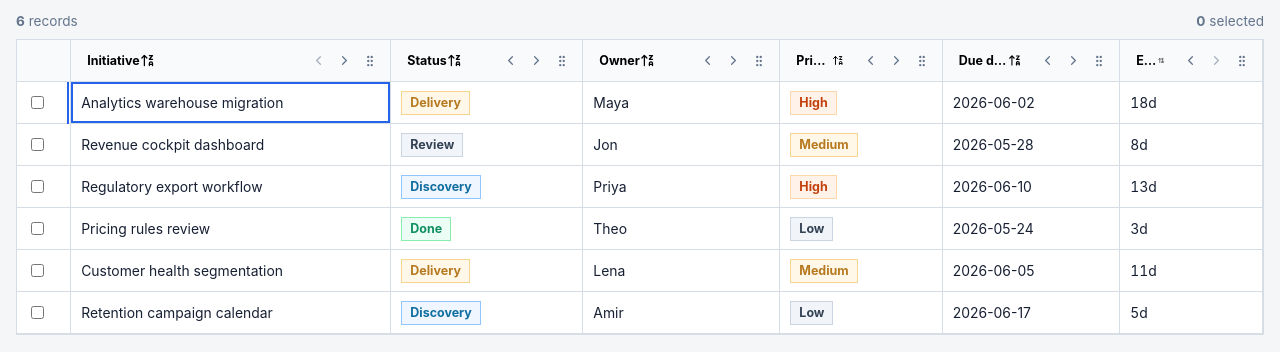
Test case: workspace components › commits inline grid edits through the domain store
Double-click the cell with test id "grid-cell-rec-revenue-dashboard-owner" at {"x": 682, "y": 145}, box [583,124,780,166]
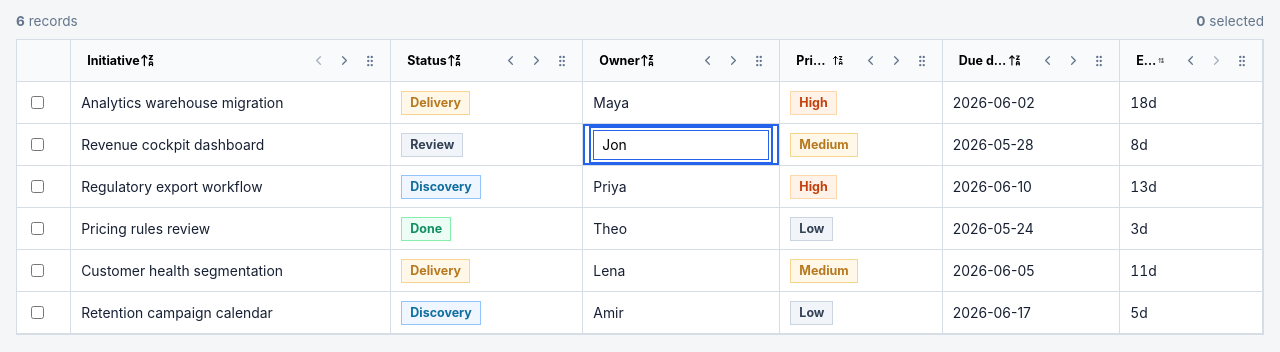
Replace the text in the field named "Edit cell" with "Alex" at {"x": 681, "y": 144}, box [593,130,769,160]
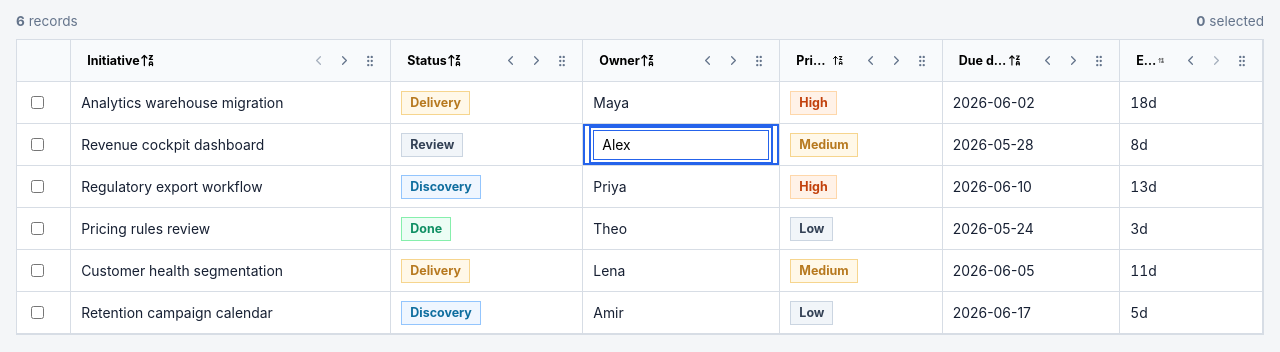
Press Enter in the field named "Edit cell", box [593,130,769,160]
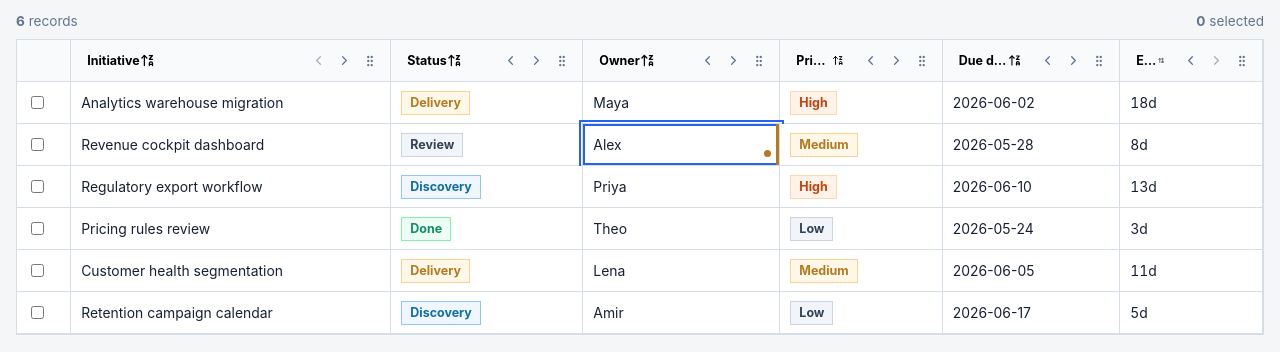
Now the text "Alex" is shown, box [593,137,622,153]
